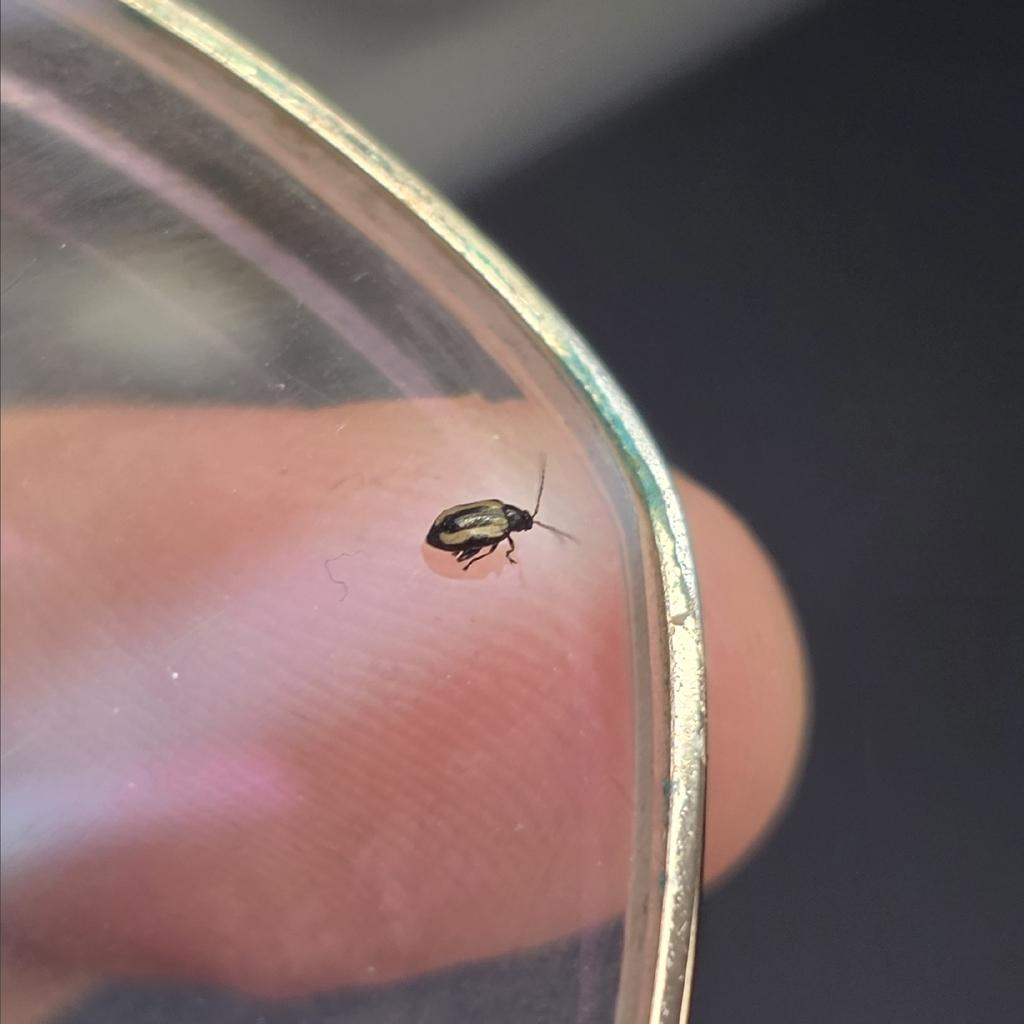flea_beetle: (403, 435, 596, 603)
